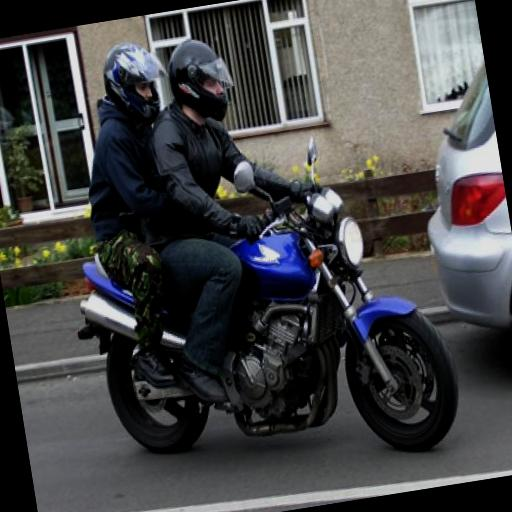helmet: (116, 0, 454, 478)
